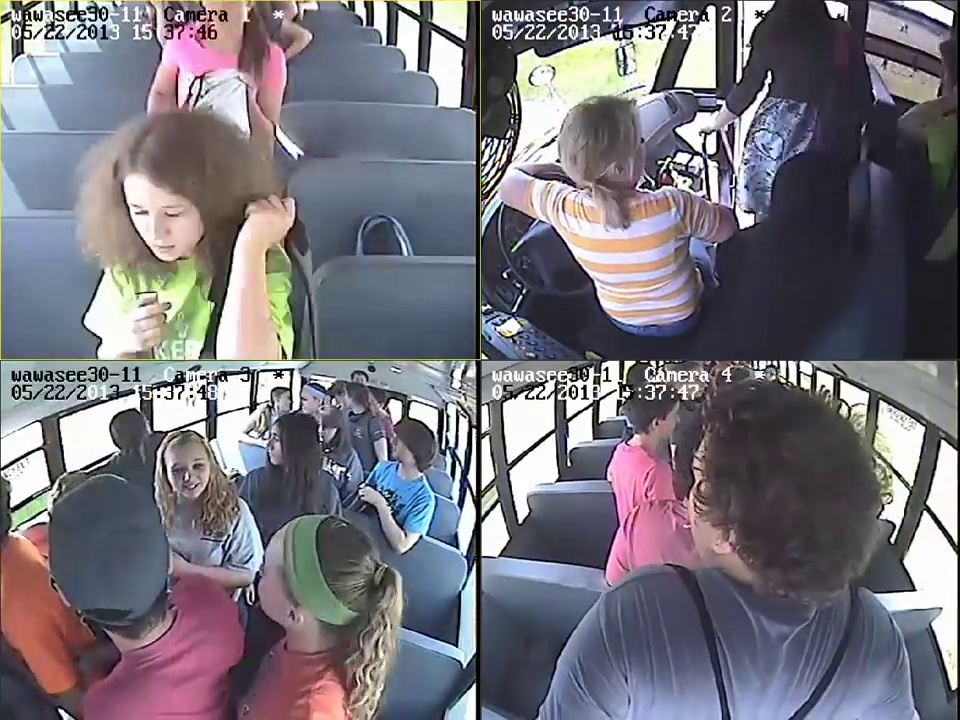face: (104, 160, 226, 270), (251, 530, 310, 626), (160, 448, 211, 506), (380, 429, 427, 472), (266, 420, 295, 467), (294, 389, 320, 416)
